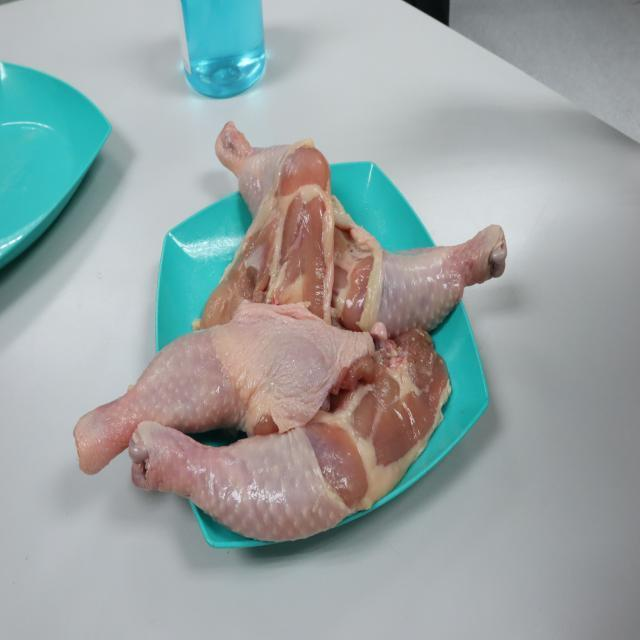quater: (152, 336, 454, 522), (80, 303, 355, 449), (324, 199, 512, 346), (199, 113, 330, 263), (178, 187, 182, 192)
